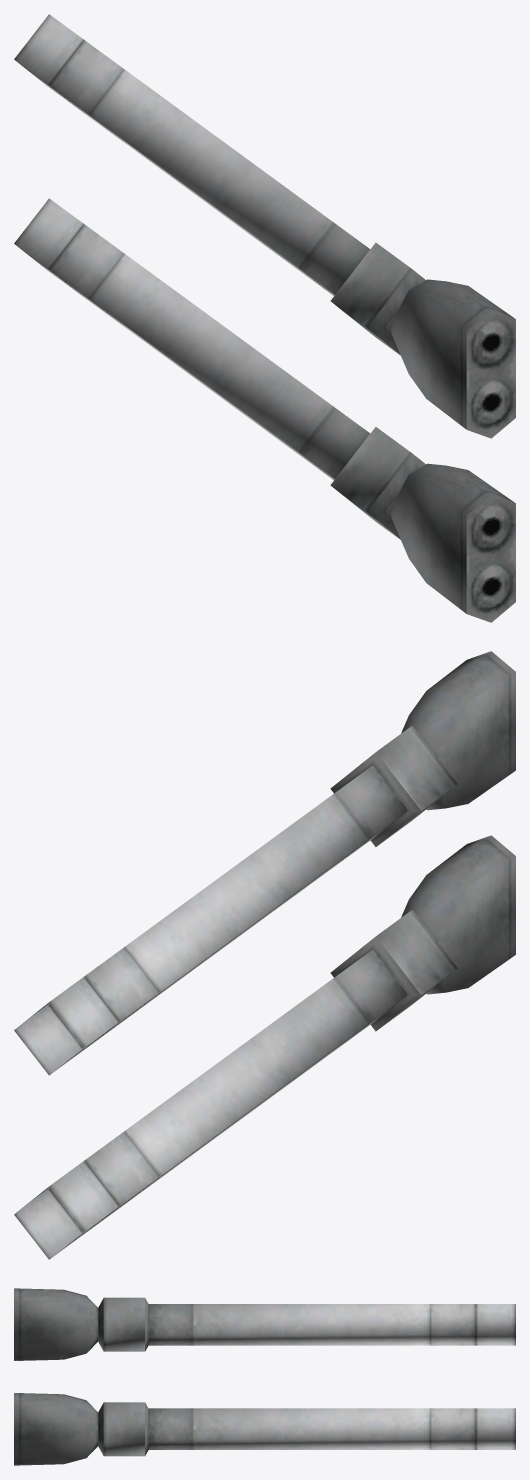
Rendered from ykl37r_turret_barrel_s01_l1.fbx.
3 renders of one model, top to bottom at view 1: azimuth 30°, elevation 25°; view 2: azimuth 150°, elevation 25°; view 3: azimuth 270°, elevation 25°, orthographic. The views are drawn at different scales.
Visible parts, largest first — view 1: mesh_node; view 2: mesh_node; view 3: mesh_node.
Part boxes in pixels (x1,y1,x2,y2): mesh_node: [14, 14, 515, 622]; mesh_node: [14, 651, 515, 1259]; mesh_node: [14, 1288, 515, 1465].
Bounding box in the file's own units: 0.201 × 0.6596 × 1.69.
Materials: 1 (1 with a texture image).
